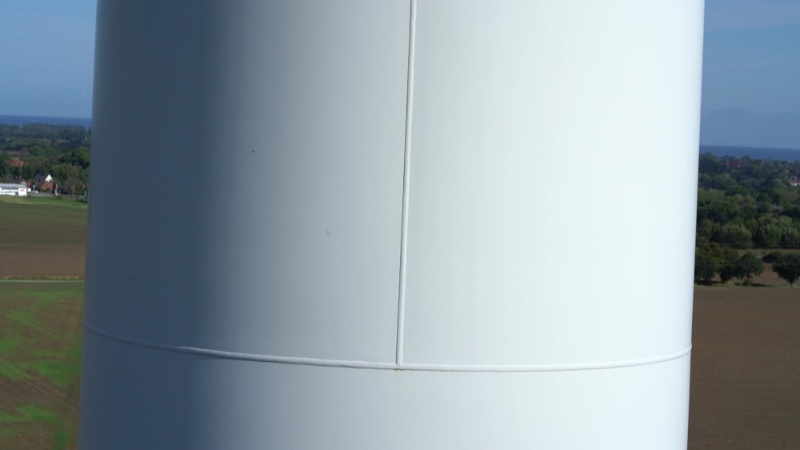weldseam: (82, 317, 692, 375), (391, 2, 421, 373)
